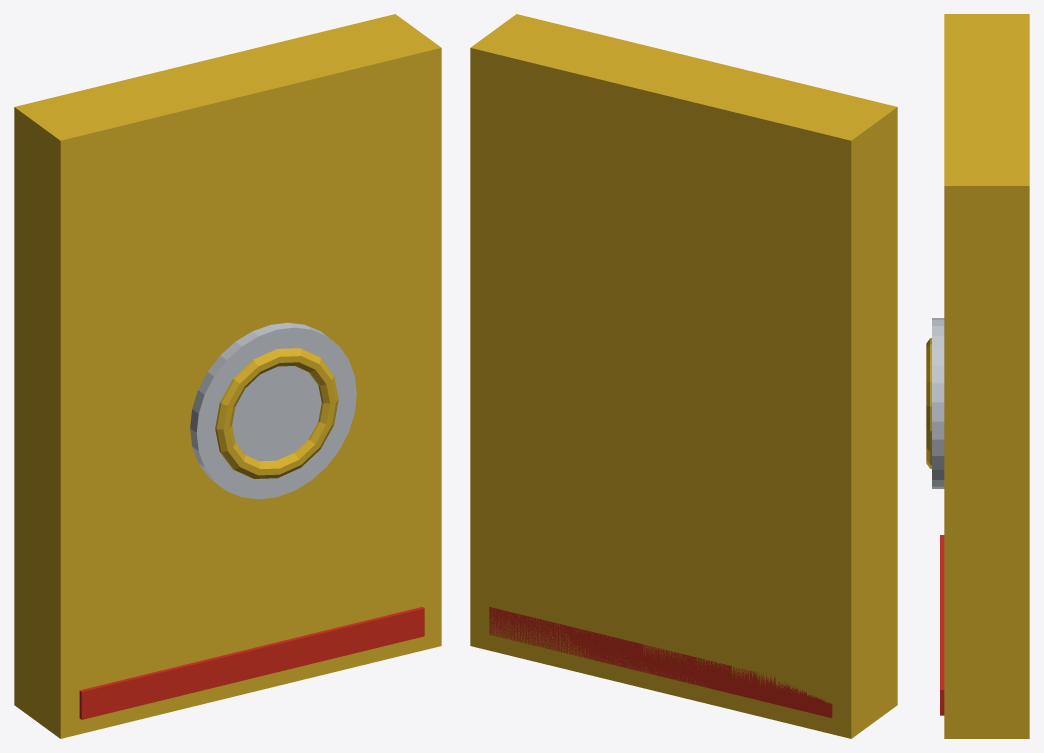
Rendered from vault_door.obj.
The picture shows the model from 3 angles, left to right: view 1: azimuth 30°, elevation 25°; view 2: azimuth 150°, elevation 25°; view 3: azimuth 270°, elevation 25°; orthographic projection. The views are drawn at different scales.
Parts seen in each view (by area): view 1: vault_door; view 2: vault_door; view 3: vault_door.
Boxes of the visible parts, x1,y1,x2,y2 form: vault_door: (14, 14, 441, 738); vault_door: (470, 14, 897, 738); vault_door: (926, 14, 1029, 738).
Size of the model in its own units: 2 by 3 by 0.5076.
